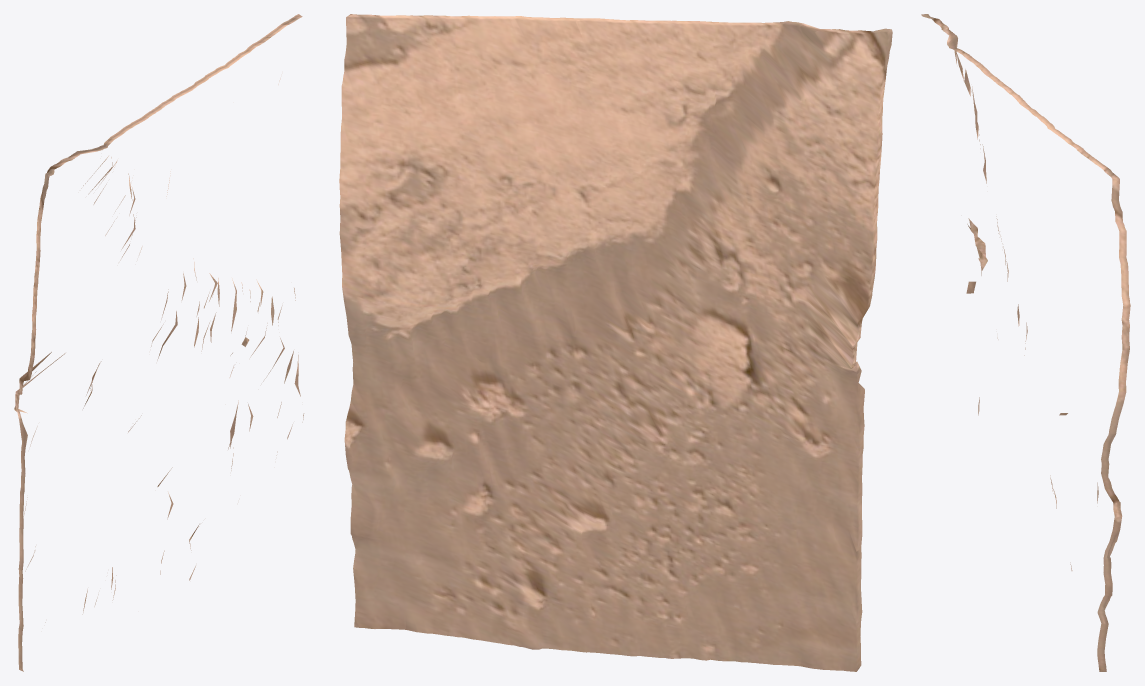
3 views of the same model, side by side, from view 1: azimuth 30°, elevation 25°; view 2: azimuth 150°, elevation 25°; view 3: azimuth 270°, elevation 25° (orthographic). The views are drawn at different scales.
Size of the model in its own units: 0.5223 by 0.7275 by 0.28.
Materials: 1 (1 with a texture image).
